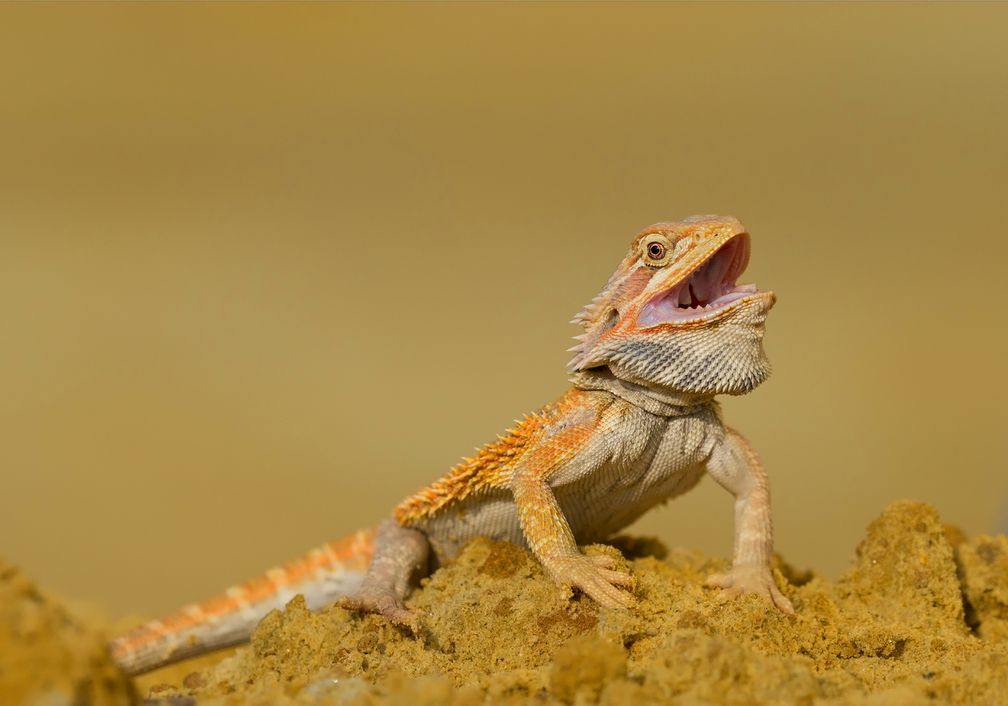bearded: (108, 213, 830, 684)
